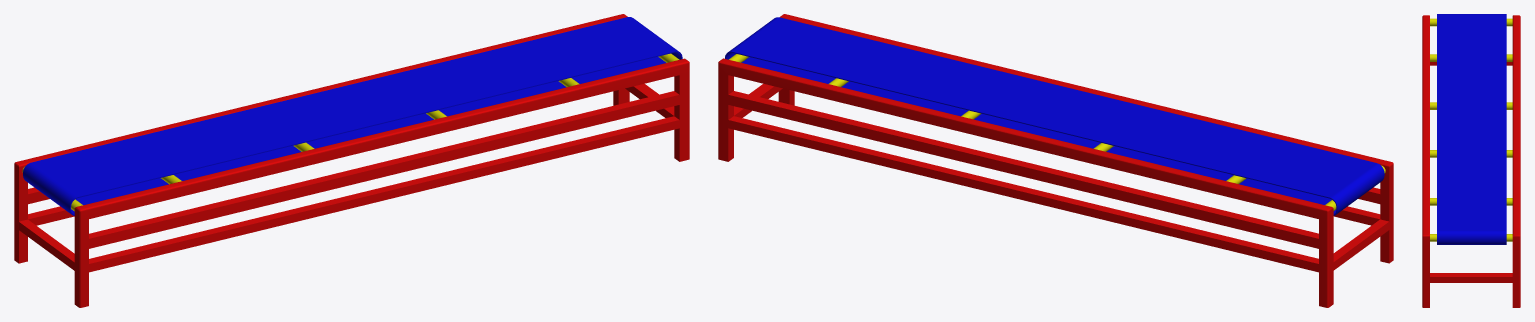
The model's file is conveyorbelt_1_high.fbx.
3 renders of one model, left to right at view 1: azimuth 30°, elevation 25°; view 2: azimuth 150°, elevation 25°; view 3: azimuth 270°, elevation 25°, orthographic. The views are drawn at different scales.
Parts seen in each view (by area): view 1: ConveyorBelt_1_high; view 2: ConveyorBelt_1_high; view 3: ConveyorBelt_1_high.
Boxes of the visible parts, x1,y1,x2,y2 form: ConveyorBelt_1_high: (14,14,689,307); ConveyorBelt_1_high: (718,14,1393,307); ConveyorBelt_1_high: (1422,14,1520,307).
Bounding box in the file's own units: 578 × 91.9 × 108.
